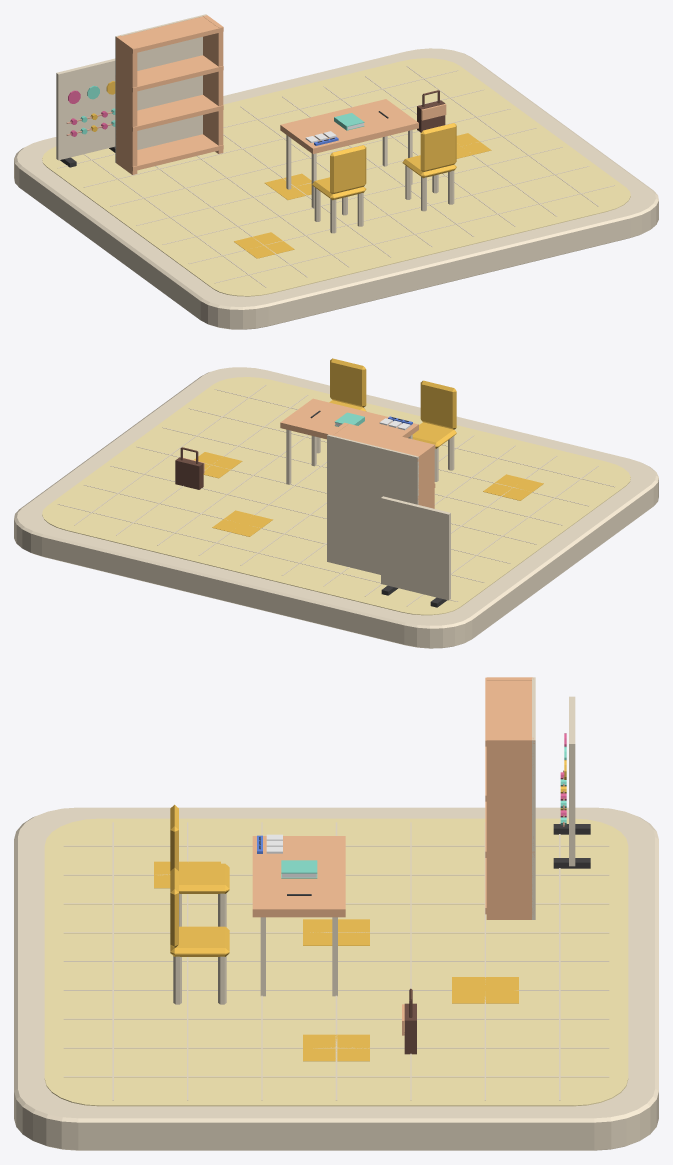
The model's file is room.fbx.
The picture shows the model from 3 angles, top to bottom: view 1: azimuth 30°, elevation 25°; view 2: azimuth 150°, elevation 25°; view 3: azimuth 270°, elevation 25°; orthographic projection. The views are drawn at different scales.
Parts seen in each view (by area): view 1: COM-02 Floor Surface, COM-01 Rounded Base Direct, Panel, Top, Back, Side, Side.001, Shelf.003, Shelf, Shelf.001, Shelf.002, Backrest (+11 smaller); view 2: COM-02 Floor Surface, COM-01 Rounded Base Direct, Back, Panel, Top, Backrest, Backrest.001, Shelf.003, Side, Bag, Geometric color tile.002, Geometric color tile (+3 smaller); view 3: COM-02 Floor Surface, COM-01 Rounded Base Direct, Top, Side.001, Shelf.003, Geometric color tile.003, Geometric color tile.002, Geometric color tile.001, Seat.001, Seat, Panel, Grout X.008 (+8 smaller).
Part boxes in pixels (x1,y1,x2,y2): COM-02 Floor Surface: (42, 58, 630, 296); COM-01 Rounded Base Direct: (14, 48, 658, 329); Panel: (56, 58, 115, 160); Top: (280, 99, 418, 208); Back: (115, 14, 206, 162); Side: (116, 35, 137, 174); Side.001: (203, 15, 223, 153); Shelf.003: (122, 16, 223, 53); Shelf: (120, 134, 223, 171); Shelf.001: (116, 94, 223, 131); Shelf.002: (115, 55, 223, 92); Backrest: (330, 145, 366, 194); COM-02 Floor Surface: (42, 377, 630, 615); COM-01 Rounded Base Direct: (14, 367, 658, 648); Back: (327, 434, 418, 574); Panel: (381, 496, 450, 600); Top: (280, 398, 418, 484); Backrest: (420, 380, 456, 429); Backrest.001: (330, 358, 366, 407); Shelf.003: (333, 422, 435, 461); Side: (414, 444, 434, 508); Bag: (175, 447, 204, 489); Geometric color tile.002: (212, 510, 272, 536); Geometric color tile: (483, 474, 543, 500); COM-02 Floor Surface: (44, 818, 628, 1106); COM-01 Rounded Base Direct: (14, 807, 658, 1150); Top: (252, 836, 345, 996); Side.001: (486, 737, 533, 919); Shelf.003: (485, 677, 534, 746); Geometric color tile.003: (303, 1034, 369, 1061); Geometric color tile.002: (452, 977, 518, 1003); Geometric color tile.001: (303, 919, 369, 945); Seat.001: (170, 926, 229, 956); Seat: (179, 863, 229, 893); Panel: (569, 696, 575, 866); Grout X.008: (63, 1076, 609, 1077).
Size of the model in its own units: 600 by 190 by 520.
